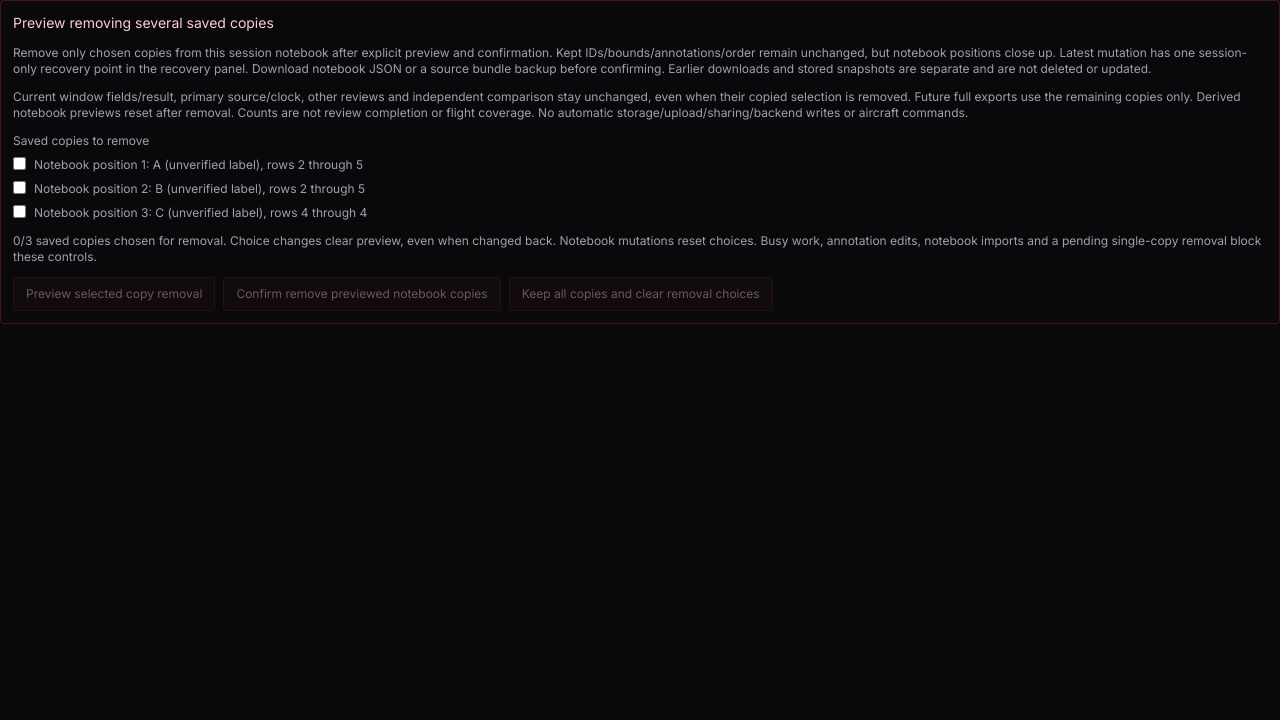
previewed notebook subset removal › clears choices on explicit keep and permits deliberate empty notebook preview
Click the checkbox named "Remove notebook position 1". click: click(20, 164)
box: [13,157,26,170]
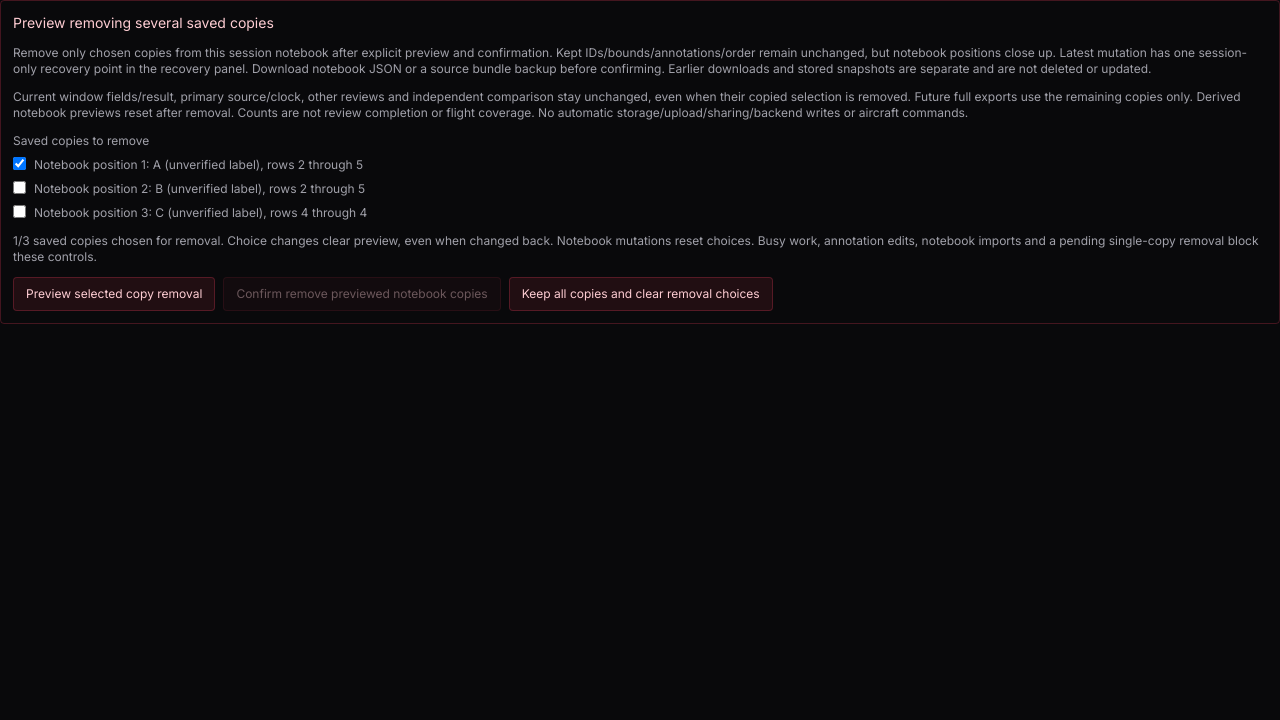
Click the checkbox named "Remove notebook position 2". click: click(20, 188)
box: [13,181,26,194]
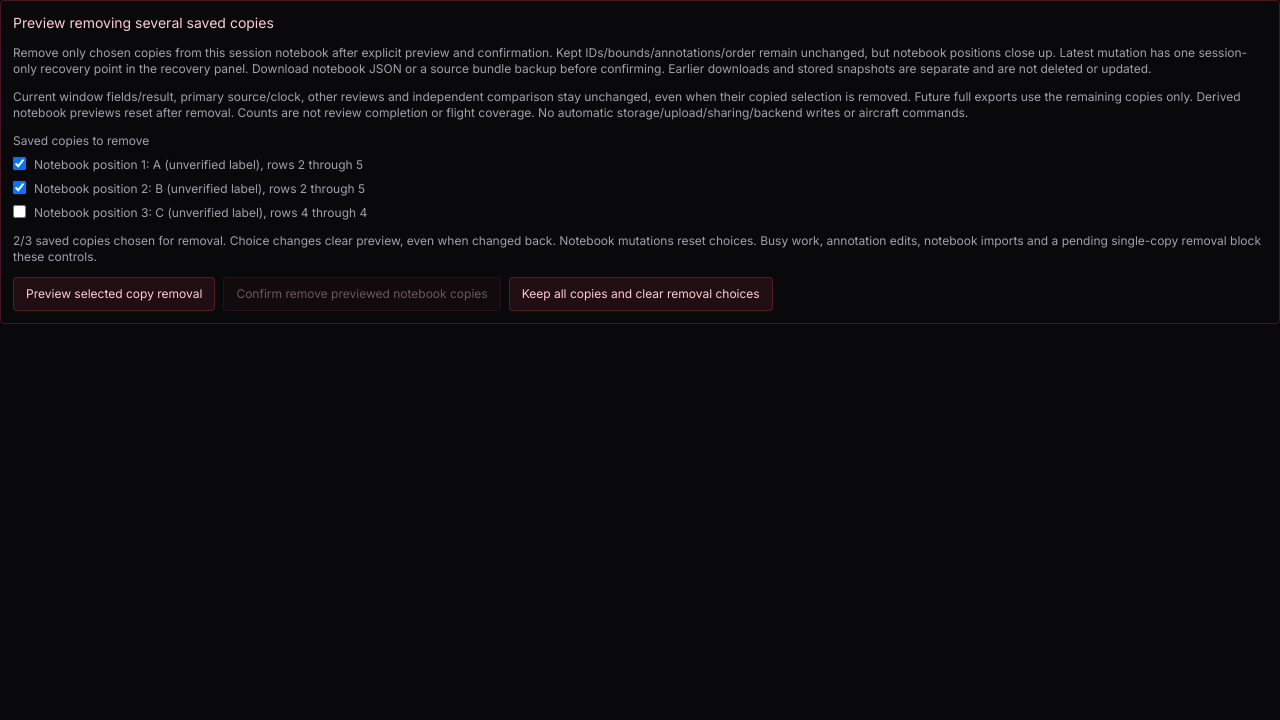
Click the checkbox labelled "Notebook position 3: C (unverified label), rows 4 through 4". click: click(20, 212)
box: [13,205,26,218]
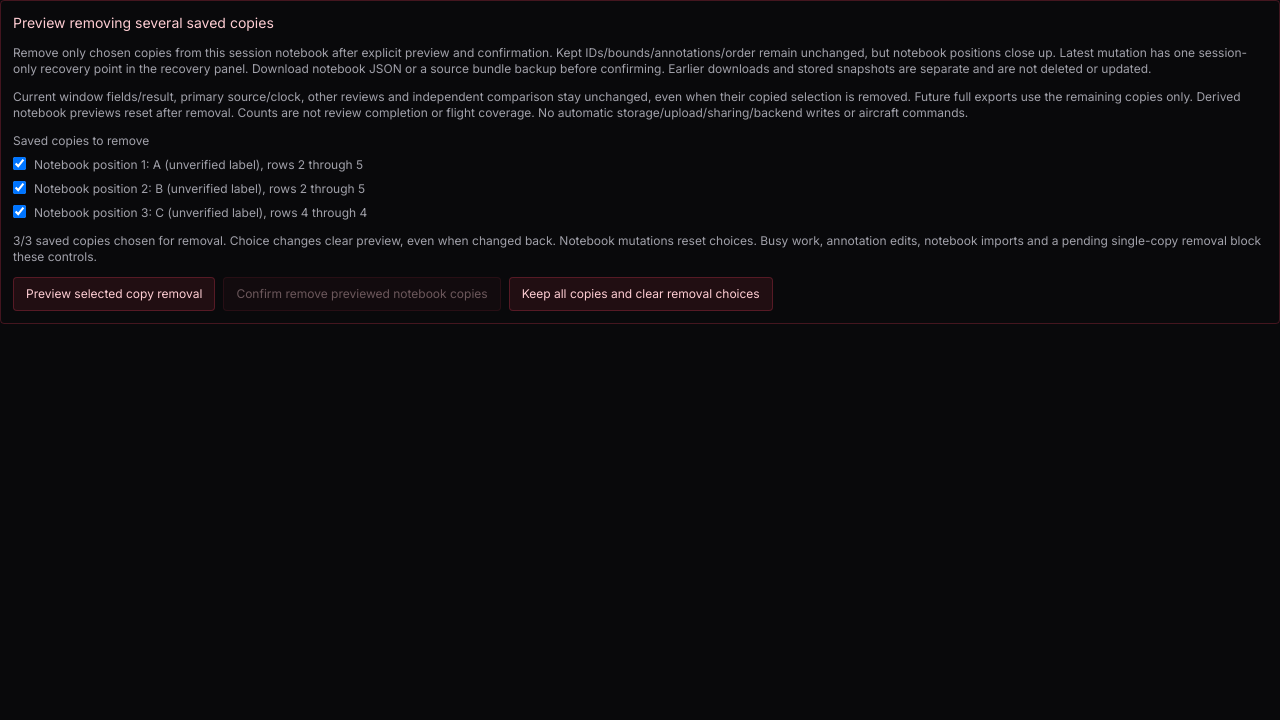
Click the button "Preview selected copy removal". click: click(114, 294)
box: [13,277,215,311]
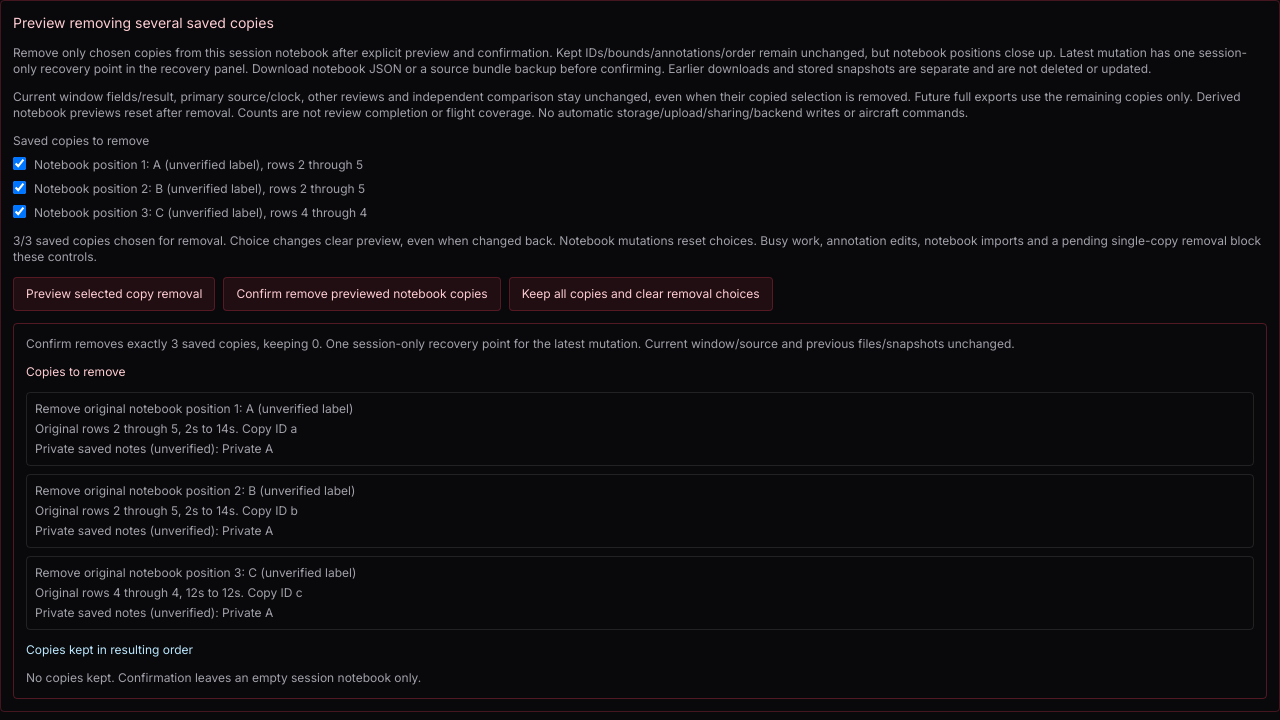
Click the button "Keep all copies and clear removal choices". click: click(641, 294)
box: [509,277,773,311]
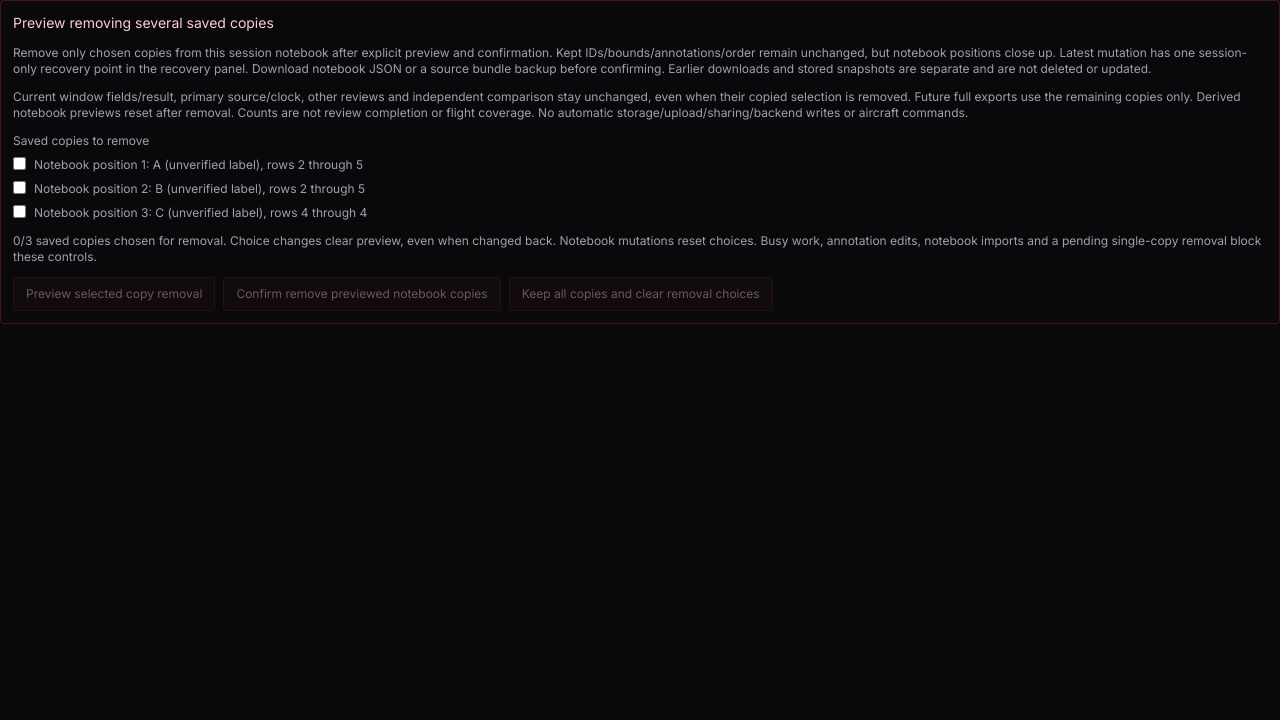
Expected: the checkbox named "Remove notebook position 1" is not checked, [13,157,26,170]
Expected: the button "Confirm remove previewed notebook copies" is disabled, [223,277,501,311]
